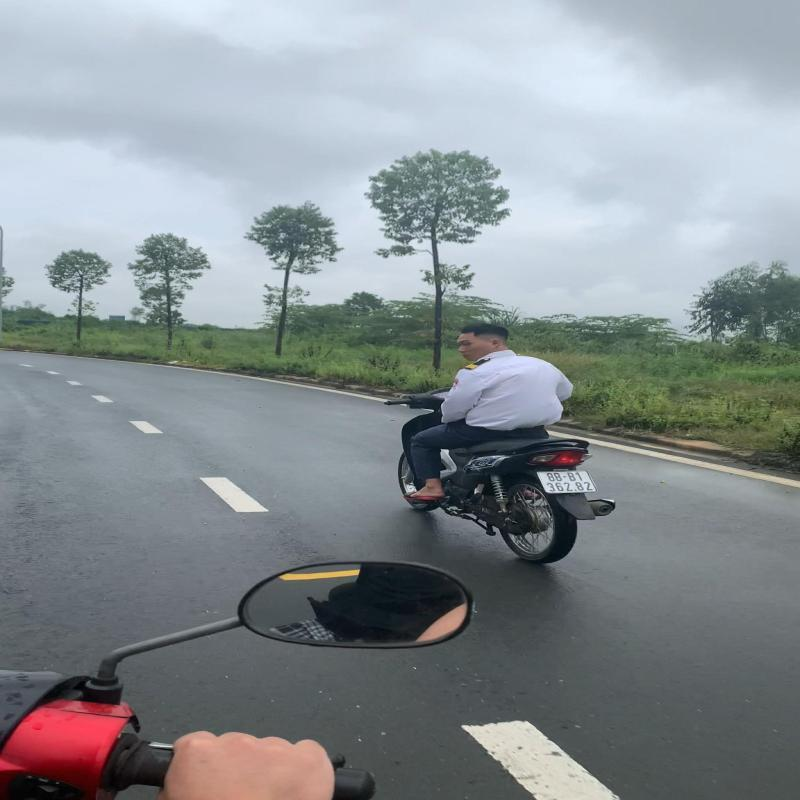licenseplate: (534, 466, 604, 496)
motorcyclist: (378, 320, 622, 565)
nohelmet: (456, 320, 512, 362)
